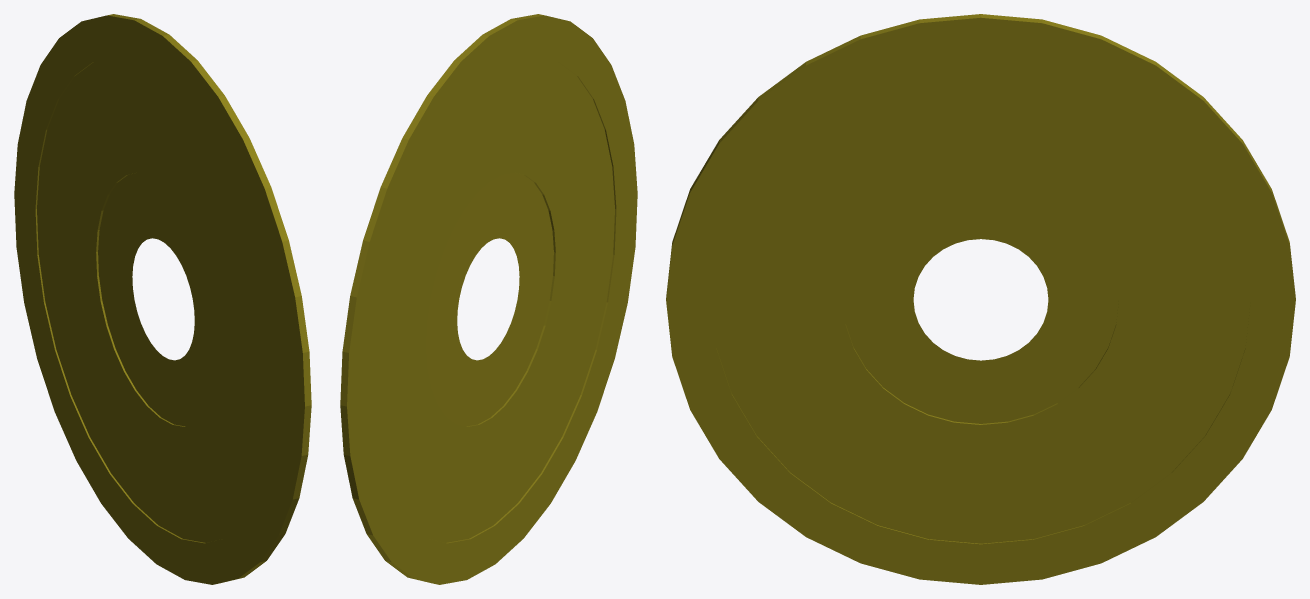
The model's file is moeda.fbx.
The picture shows the model from 3 angles, left to right: view 1: azimuth 30°, elevation 25°; view 2: azimuth 150°, elevation 25°; view 3: azimuth 270°, elevation 25°; orthographic projection. The views are drawn at different scales.
Parts seen in each view (by area): view 1: Cilindro; view 2: Cilindro; view 3: Cilindro.
Part boxes in pixels (x1,y1,x2,y2): Cilindro: [14, 14, 311, 584]; Cilindro: [340, 14, 637, 584]; Cilindro: [666, 14, 1295, 584].
Size of the model in its own units: 5.16 by 200 by 200.
